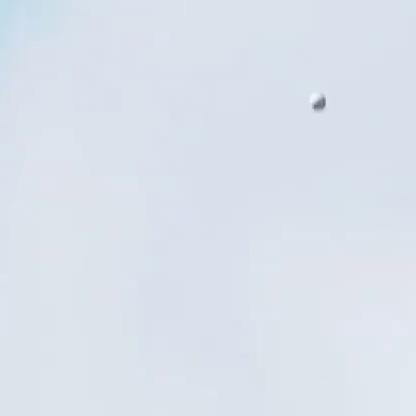golfball: (306, 87, 324, 109)
